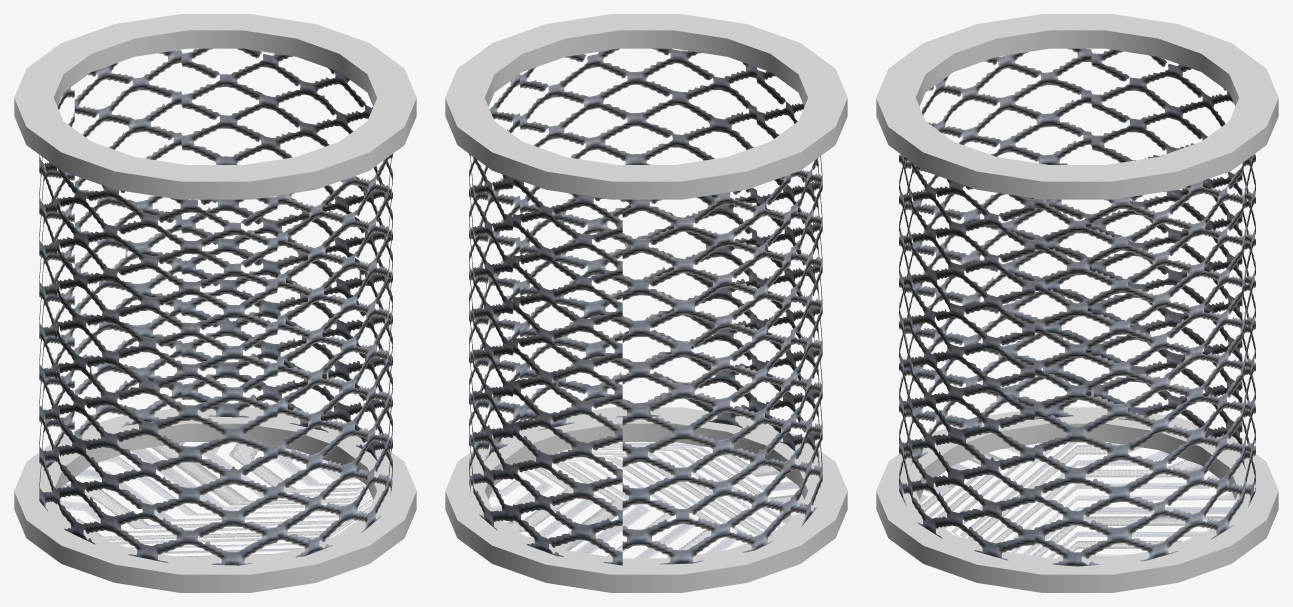
File: papelera con textura.fbx
3 renders of one model, left to right at view 1: azimuth 30°, elevation 25°; view 2: azimuth 150°, elevation 25°; view 3: azimuth 270°, elevation 25°, orthographic.
Parts seen in each view (by area): view 1: Cylinder007, Tube002, Tube001; view 2: Cylinder007, Tube002, Tube001; view 3: Cylinder007, Tube002, Tube001.
Part boxes in pixels (x1,y1,x2,y2): Cylinder007: (39, 48, 392, 565); Tube002: (14, 14, 416, 199); Tube001: (14, 407, 416, 592); Cylinder007: (469, 48, 822, 565); Tube002: (445, 14, 847, 199); Tube001: (445, 407, 847, 592); Cylinder007: (899, 48, 1255, 566); Tube002: (876, 14, 1278, 199); Tube001: (876, 407, 1278, 592).
Size of the model in its own units: 0.4445 by 0.509 by 0.4514.
Materials: 1 (1 with a texture image).
